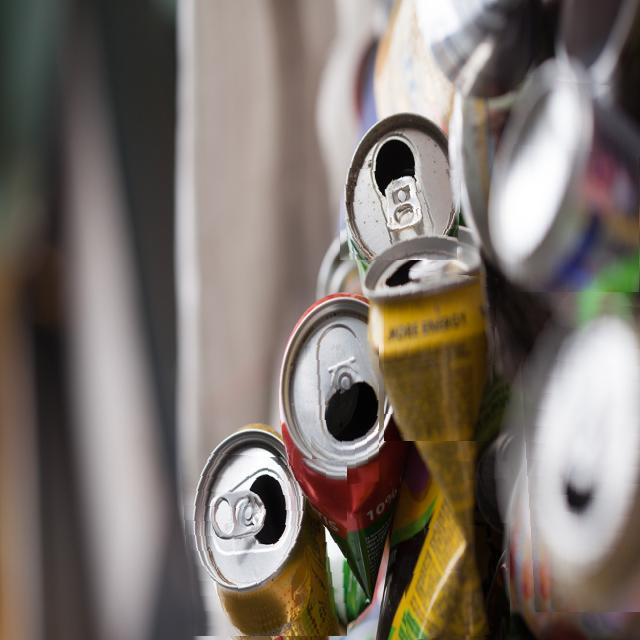Cans: (517, 298, 640, 612), (180, 452, 347, 636), (506, 75, 640, 292), (384, 268, 498, 441), (402, 461, 510, 640), (340, 158, 462, 260), (304, 338, 379, 487)
